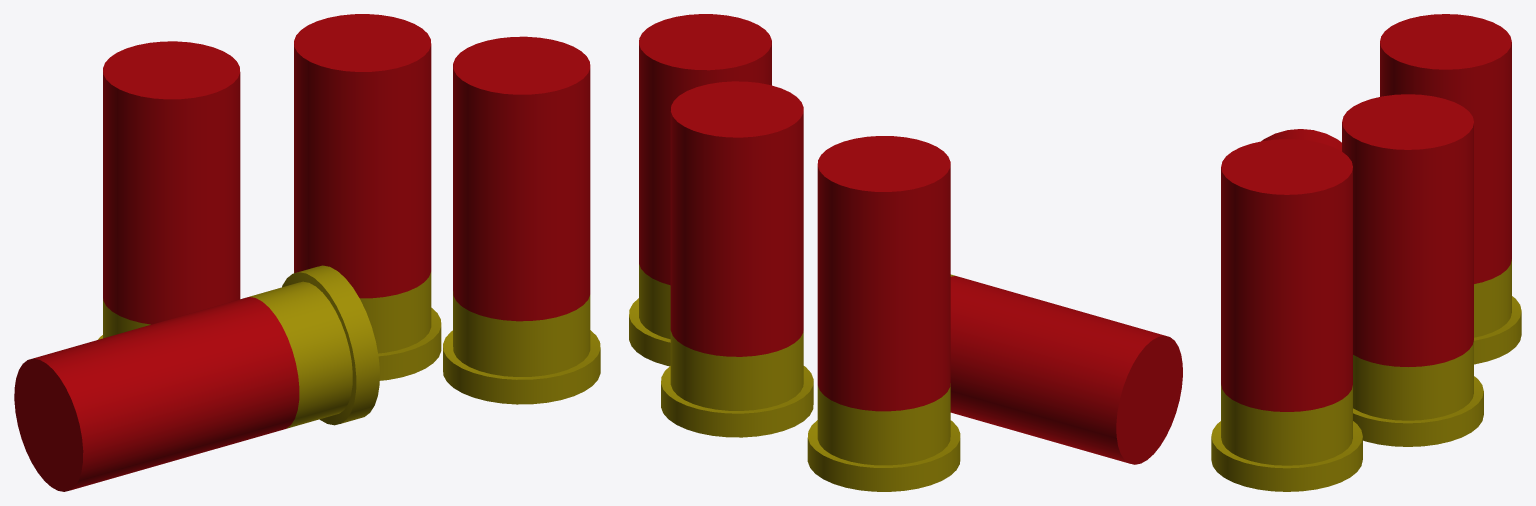
Rendered from shotty ammo.fbx.
3 views of the same model, side by side, from view 1: azimuth 30°, elevation 25°; view 2: azimuth 150°, elevation 25°; view 3: azimuth 270°, elevation 25° (orthographic). The views are drawn at different scales.
Visible parts, largest first — view 1: shotgun ammo; view 2: shotgun ammo; view 3: shotgun ammo.
Part boxes in pixels (bbox=[...]): shotgun ammo: bbox=[14, 14, 600, 491]; shotgun ammo: bbox=[629, 14, 1182, 491]; shotgun ammo: bbox=[1211, 14, 1521, 491].
Bounding box in the file's own units: 900 × 502 × 470.
